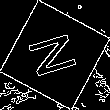N_E: (25, 28, 85, 82)
